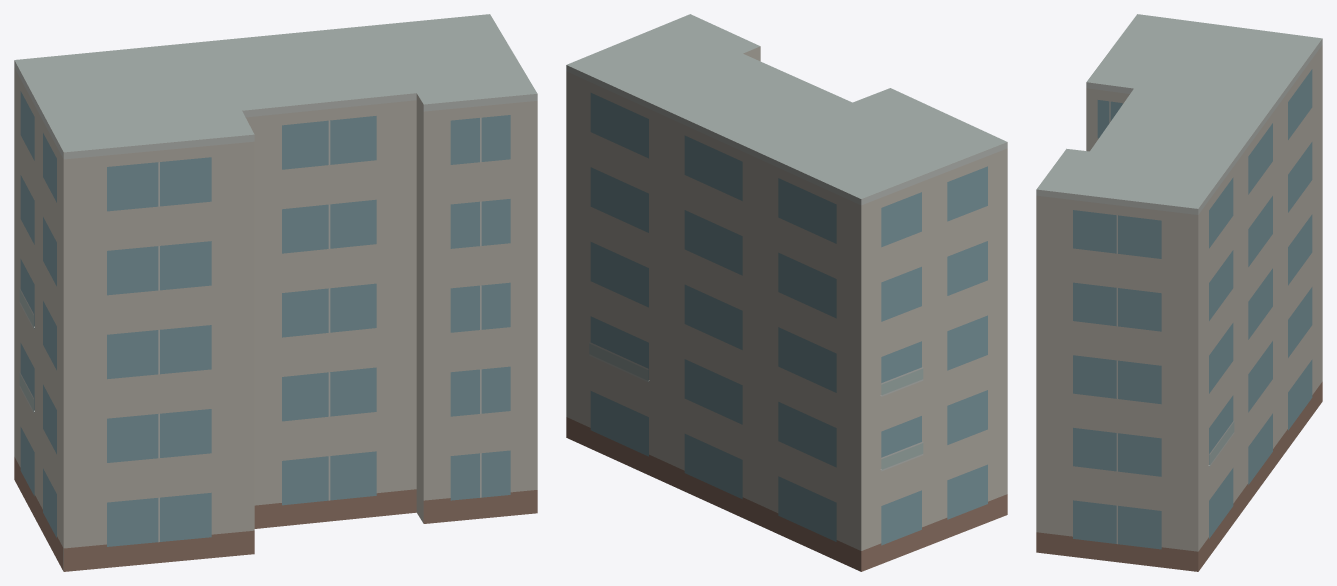
The model's file is survey-upis-32978356.glb.
The picture shows the model from 3 angles, left to right: view 1: azimuth 30°, elevation 25°; view 2: azimuth 150°, elevation 25°; view 3: azimuth 270°, elevation 25°; orthographic projection. The views are drawn at different scales.
Visible parts, largest first — view 1: survey-upis-32978356.tmp; view 2: survey-upis-32978356.tmp; view 3: survey-upis-32978356.tmp.
Part boxes in pixels (<box>): survey-upis-32978356.tmp: <box>14,14,537,571</box>; survey-upis-32978356.tmp: <box>566,14,1007,571</box>; survey-upis-32978356.tmp: <box>1036,14,1322,571</box>.
Bounding box in the file's own units: 16.71 × 14.5 × 10.37.
